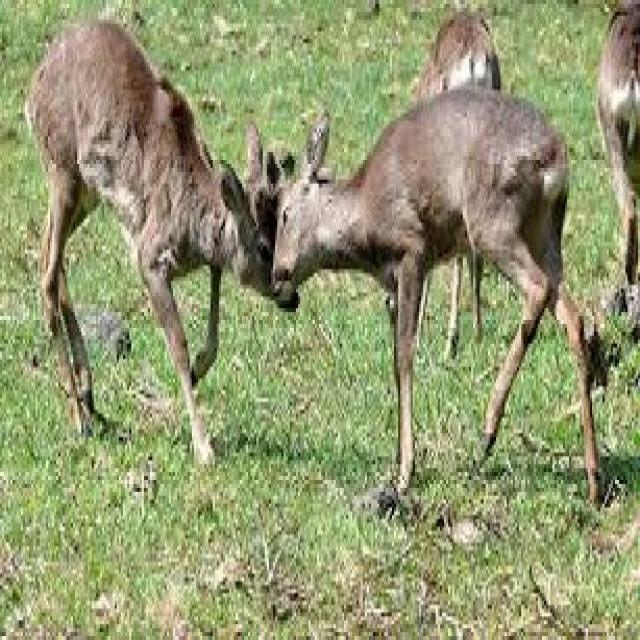deer: (275, 66, 606, 515), (19, 0, 276, 477)
